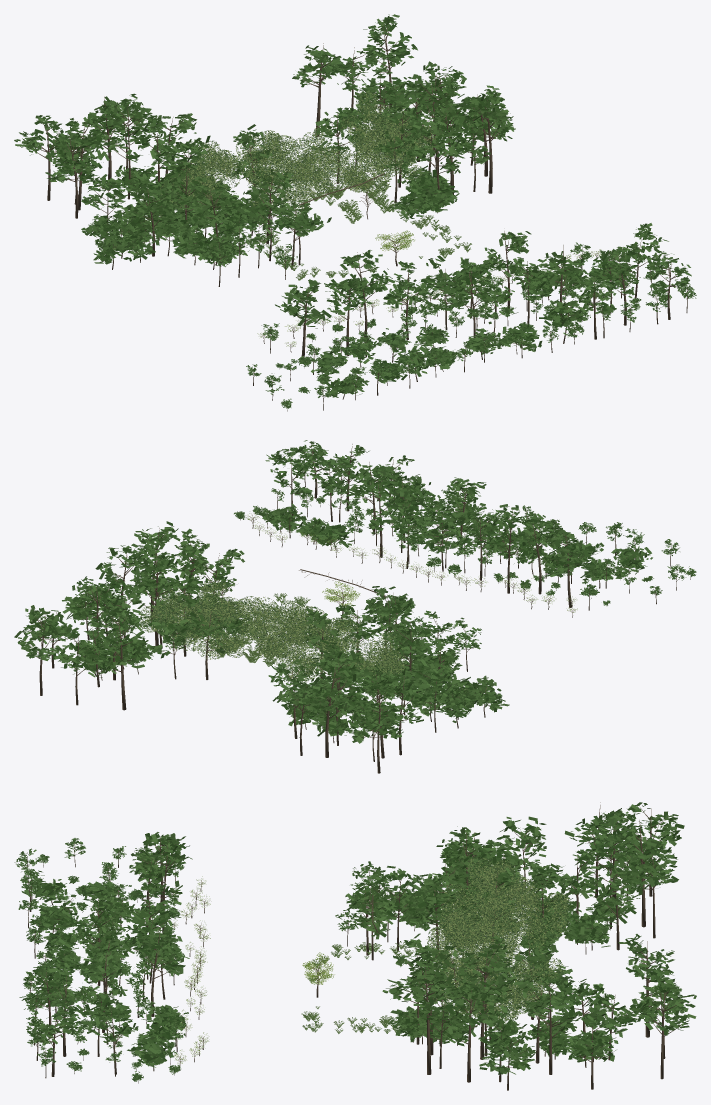
The model's file is sauna-garden.glb.
3 views of the same model, one above another, from view 1: azimuth 30°, elevation 25°; view 2: azimuth 150°, elevation 25°; view 3: azimuth 270°, elevation 25° (orthographic). The views are drawn at different scales.
Visible parts, largest first — view 1: V6 clustered tree leaves, Fine canopy leaves, V5 overhead canopy bough, Woodland fern; view 2: V6 clustered tree leaves, Fine canopy leaves, V5 overhead canopy bough, Woodland fern; view 3: V6 clustered tree leaves, Fine canopy leaves, V5 overhead canopy bough, Woodland fern, V11 maple clustered lobed foliage 0, V11 maple clustered lobed foliage 1, V11 maple clustered lobed foliage 2.
Boxes of the visible parts, x1,y1,x2,y2 form: V6 clustered tree leaves: (14, 14, 696, 408); Fine canopy leaves: (160, 91, 436, 216); V5 overhead canopy bough: (35, 20, 689, 411); Woodland fern: (259, 176, 471, 280); V6 clustered tree leaves: (14, 440, 696, 743); Fine canopy leaves: (140, 579, 405, 684); V5 overhead canopy bough: (28, 444, 690, 773); Woodland fern: (205, 593, 415, 666); V6 clustered tree leaves: (14, 802, 696, 1081); Fine canopy leaves: (426, 857, 569, 1031); V5 overhead canopy bough: (24, 802, 683, 1090); Woodland fern: (301, 941, 495, 1033); V11 maple clustered lobed foliage 0: (173, 878, 333, 1063); V11 maple clustered lobed foliage 1: (172, 882, 333, 1063); V11 maple clustered lobed foliage 2: (170, 882, 334, 1063).
Size of the model in its own units: 55.31 by 12.86 by 67.94.
